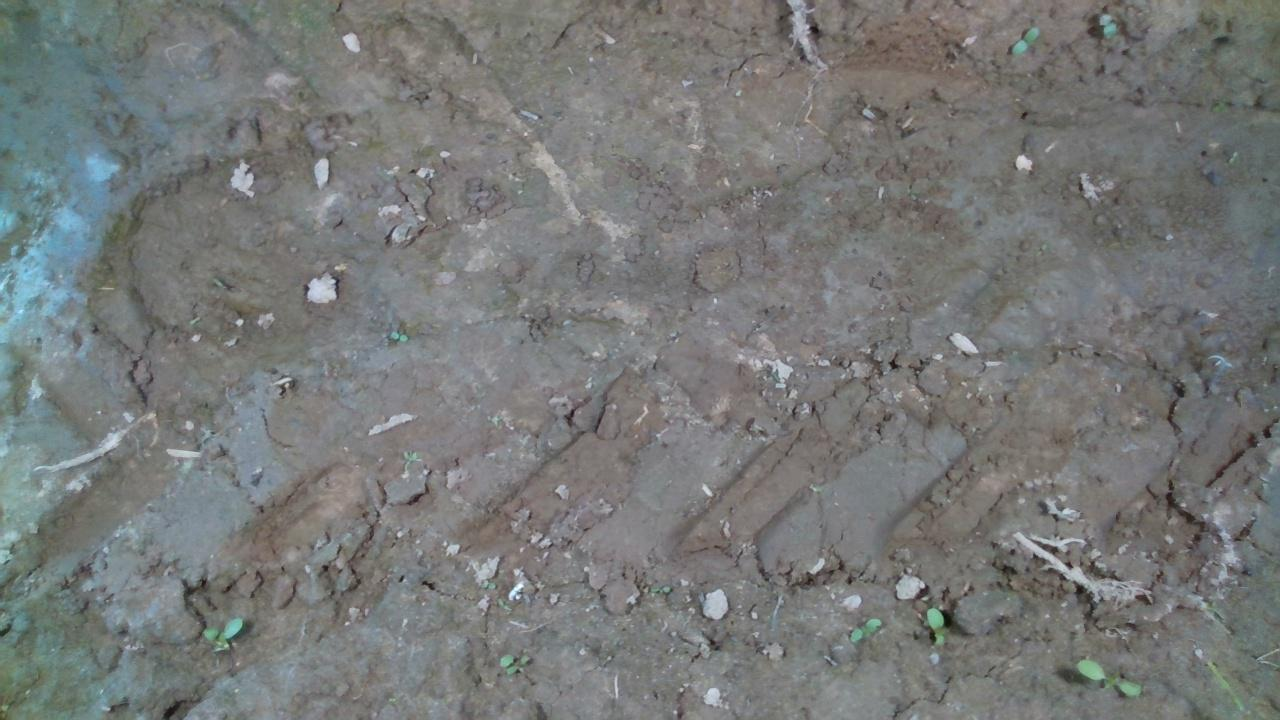weed: (1074, 657, 1142, 697), (1008, 23, 1039, 54), (848, 615, 882, 643), (924, 605, 946, 648), (497, 652, 531, 674), (1096, 12, 1118, 39), (387, 328, 409, 342), (1226, 149, 1238, 164)
